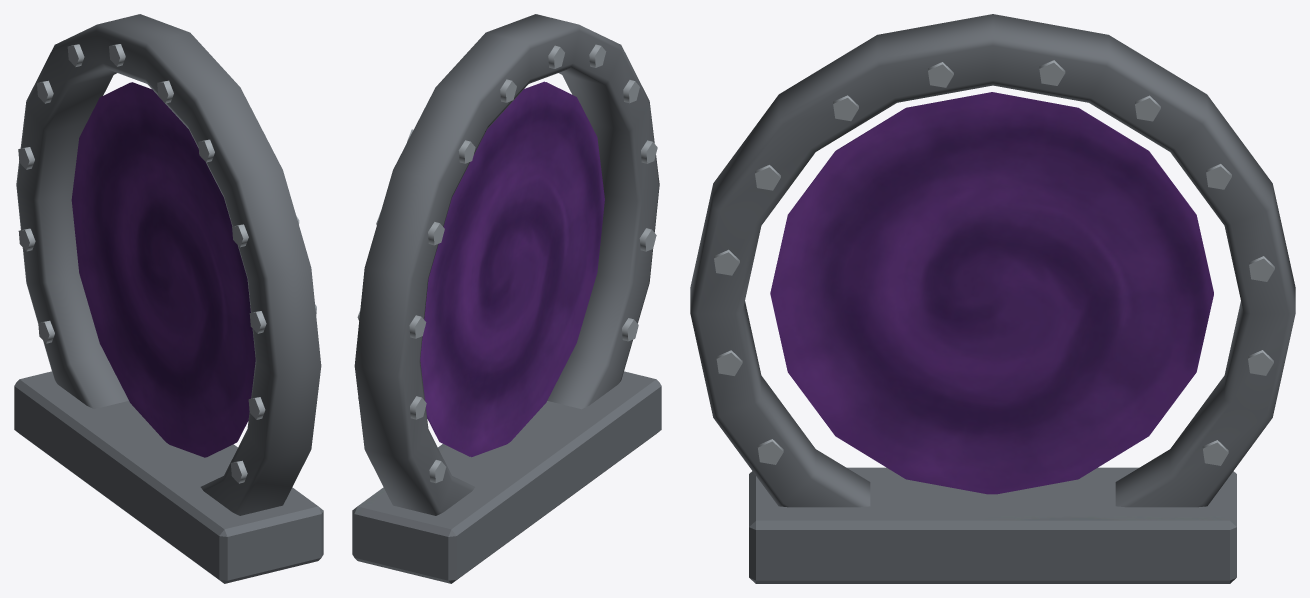
Rendered from Portal 1.fbx.
3 renders of one model, left to right at view 1: azimuth 30°, elevation 25°; view 2: azimuth 150°, elevation 25°; view 3: azimuth 270°, elevation 25°, orthographic. The views are drawn at different scales.
Visible parts, largest first — view 1: Portal; view 2: Portal; view 3: Portal.
Boxes of the visible parts, x1=… form: Portal: x1=14, y1=14, x2=323, y2=583; Portal: x1=352, y1=14, x2=661, y2=583; Portal: x1=690, y1=14, x2=1295, y2=583.
Size of the model in its own units: 99.92 by 434 by 420.
